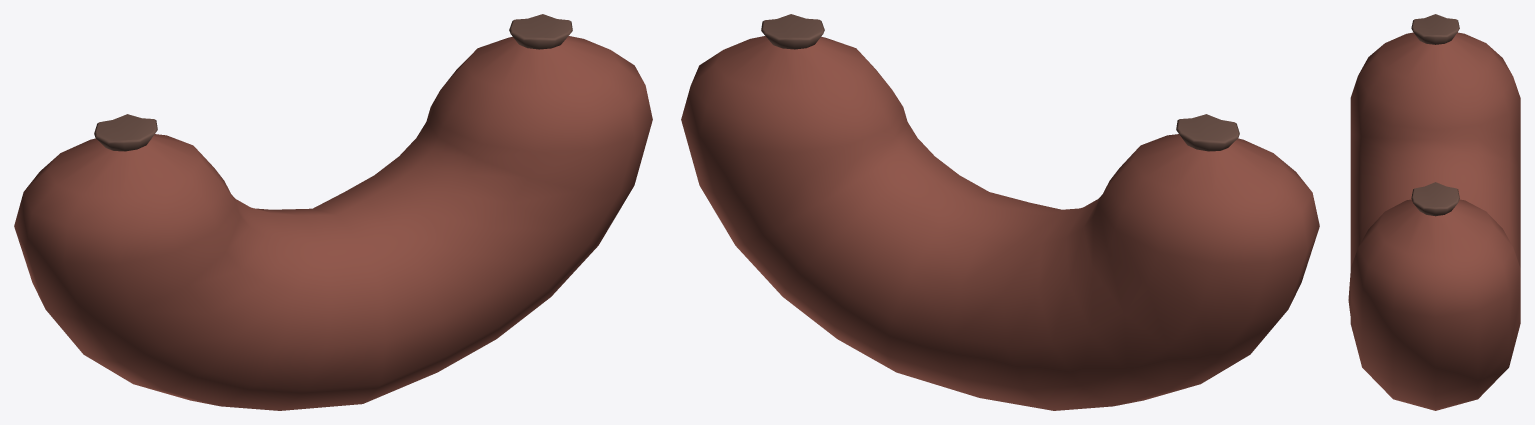
Rendered from Sausage_mini.005.fbx.
3 views of the same model, side by side, from view 1: azimuth 30°, elevation 25°; view 2: azimuth 150°, elevation 25°; view 3: azimuth 270°, elevation 25° (orthographic). The views are drawn at different scales.
Visible parts, largest first — view 1: Sausage_mini.005; view 2: Sausage_mini.005; view 3: Sausage_mini.005.
Boxes of the visible parts, bbox=[...] form: Sausage_mini.005: bbox=[14, 14, 652, 410]; Sausage_mini.005: bbox=[681, 14, 1319, 410]; Sausage_mini.005: bbox=[1348, 14, 1520, 410].
Size of the model in its own units: 123 by 35.62 by 61.27.
